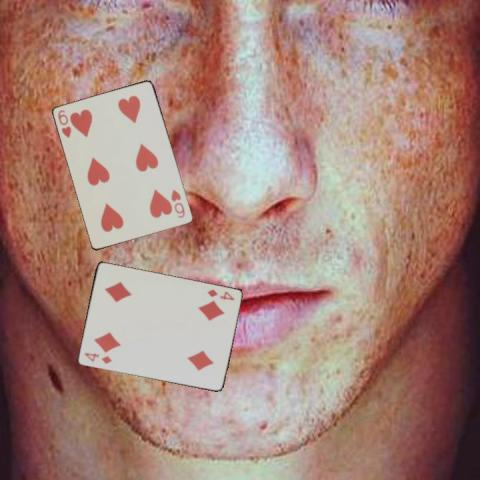4d: (82, 349, 114, 366), (204, 286, 236, 302)
6h: (55, 107, 73, 140), (168, 187, 186, 219)
